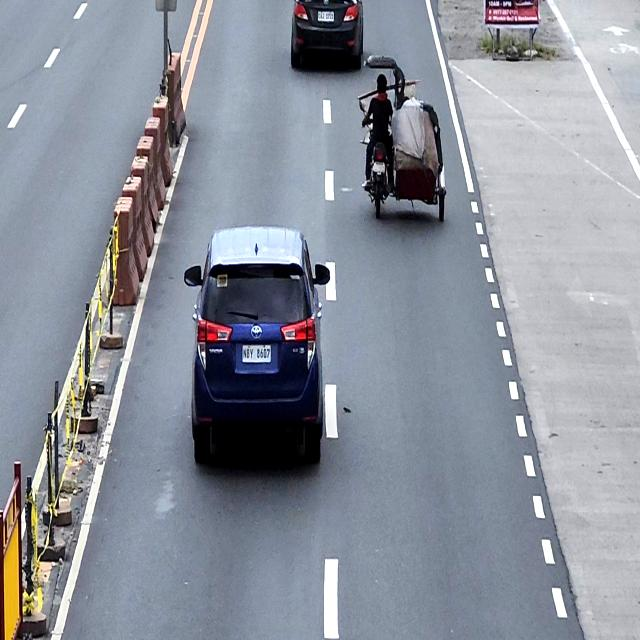Car: (184, 223, 331, 467), (291, 0, 364, 73)
License-Plate: (242, 344, 272, 364), (317, 11, 335, 23), (372, 161, 386, 173)
Tricycle: (362, 54, 446, 222)
